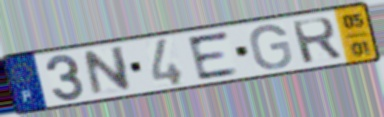3: (44, 52, 86, 103)
4: (150, 36, 186, 88)
E: (184, 29, 241, 82)
G: (248, 22, 295, 71)
N: (81, 44, 135, 99)
R: (289, 15, 345, 66)
